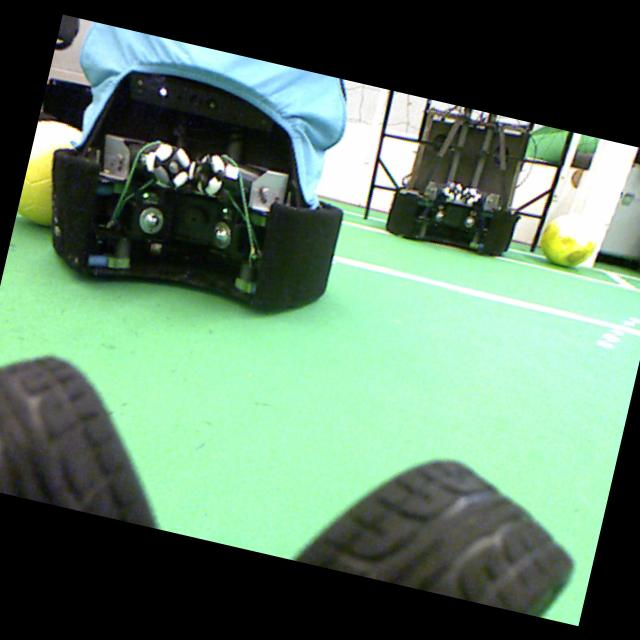ball: (17, 120, 82, 226), (539, 213, 597, 266)
goal: (577, 141, 639, 267)
robot: (385, 98, 533, 255)
